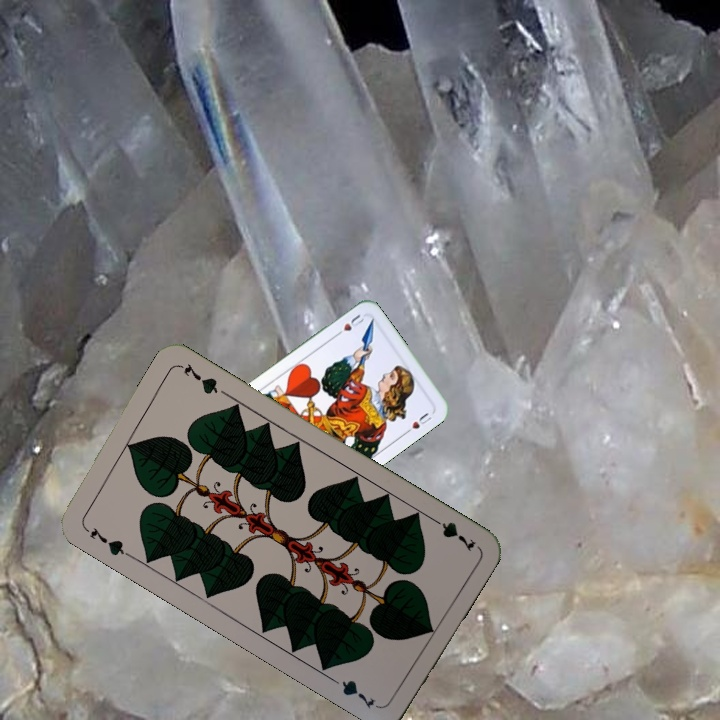G7: (425, 512, 479, 555), (80, 522, 133, 560)
HU: (330, 310, 367, 340)
